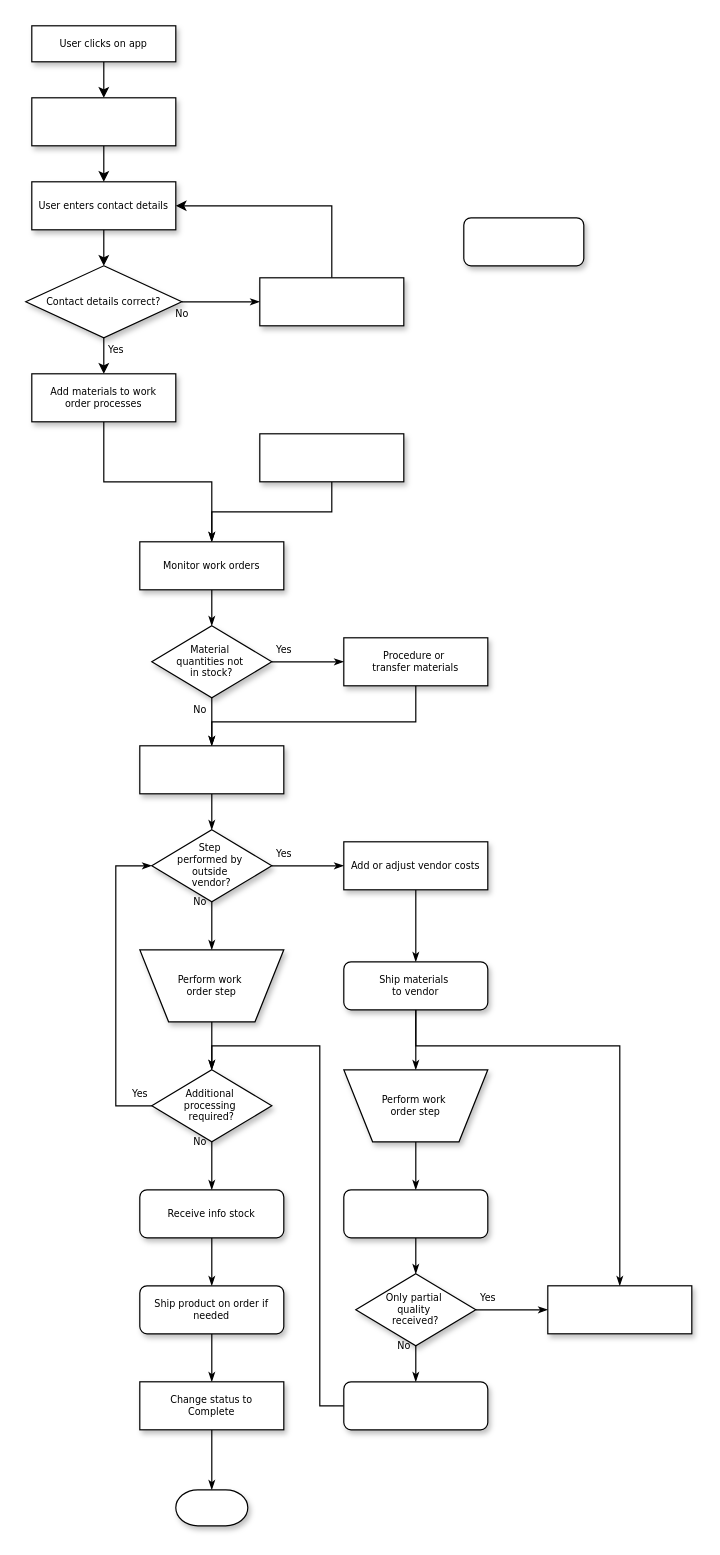
This 720x1555 diagram has some shape labels left out. Each missing label, with the centre of its shape:
Adjust material quantities if needed: point (332, 459)
Change status to In Process: point (212, 771)
Create work order backorder: point (620, 1311)
Create work order template: point (524, 243)
End: point (212, 1509)
Pay vendor invoice: point (416, 1407)
Receive product from vendor: point (416, 1215)
User prompted to enter details again: point (332, 303)
Welcome message and prompt to start using app: point (104, 123)
